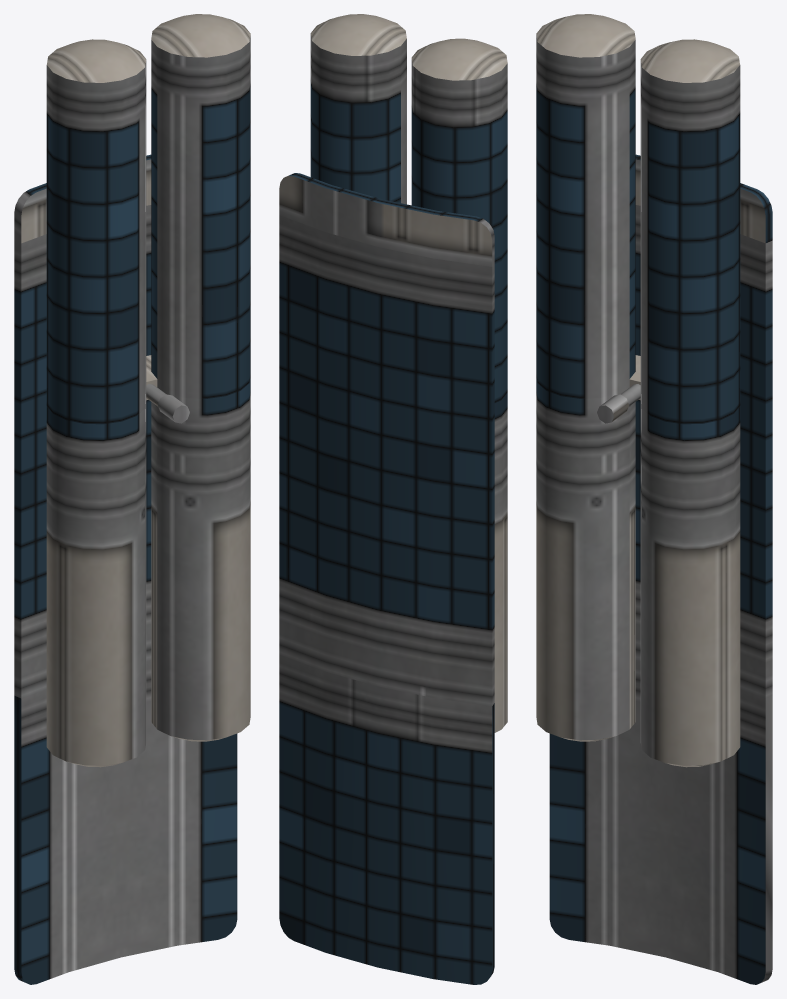
Rendered from double_short_rad_overhang.obj.
The picture shows the model from 3 angles, left to right: view 1: azimuth 30°, elevation 25°; view 2: azimuth 150°, elevation 25°; view 3: azimuth 330°, elevation 25°; orthographic projection. The views are drawn at different scales.
Visible parts, largest first — view 1: 1; view 2: 1; view 3: 1.
Part boxes in pixels (x1=…): 1: x1=14, y1=14, x2=250, y2=984; 1: x1=279, y1=14, x2=507, y2=984; 1: x1=536, y1=14, x2=772, y2=984.
Bounding box in the file's own units: 0.6341 × 2.59 × 0.325.
